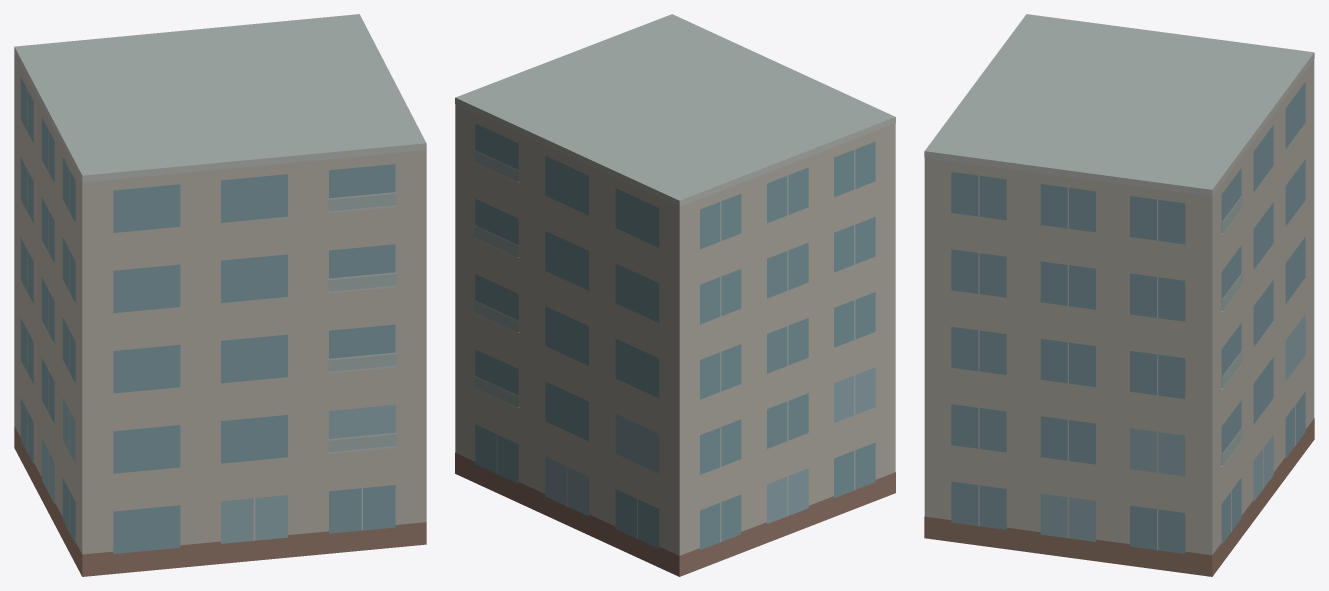
The model's file is survey-upis-32873361.glb.
The picture shows the model from 3 angles, left to right: view 1: azimuth 30°, elevation 25°; view 2: azimuth 150°, elevation 25°; view 3: azimuth 270°, elevation 25°; orthographic projection. The views are drawn at different scales.
Parts seen in each view (by area): view 1: survey-upis-32873361.tmp; view 2: survey-upis-32873361.tmp; view 3: survey-upis-32873361.tmp.
Boxes of the visible parts, left/top/right/bottom form: survey-upis-32873361.tmp: left=14, top=14, right=426, bottom=576; survey-upis-32873361.tmp: left=455, top=14, right=895, bottom=576; survey-upis-32873361.tmp: left=924, top=14, right=1314, bottom=576.
Bounding box in the file's own units: 14.04 × 14.4 × 13.16.
